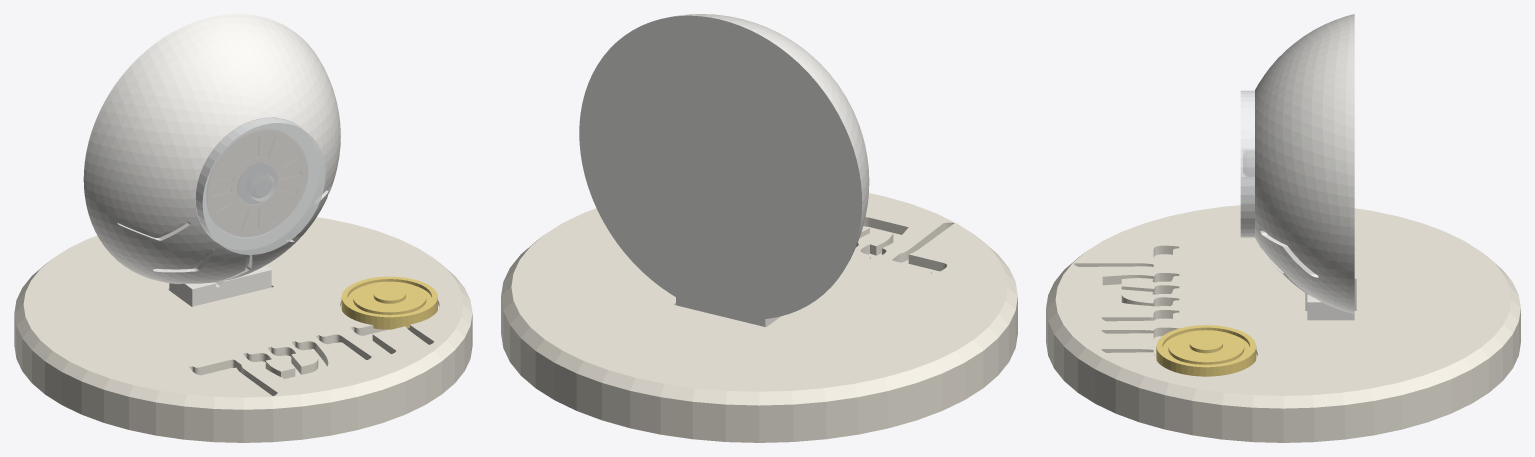
The model's file is darkness-eye.glb.
3 views of the same model, side by side, from view 1: azimuth 30°, elevation 25°; view 2: azimuth 150°, elevation 25°; view 3: azimuth 270°, elevation 25° (orthographic). The views are drawn at different scales.
Parts seen in each view (by area): view 1: stage, eye, film, dinar; view 2: stage, eye; view 3: stage, eye, dinar, film.
Part boxes in pixels (box(x1,y1,x2,y2)): stage: box(14, 217, 472, 442); eye: box(83, 14, 340, 306); film: box(195, 118, 325, 254); dinar: box(341, 276, 437, 329); stage: box(501, 193, 1017, 442); eye: box(579, 14, 869, 327); stage: box(1046, 205, 1520, 442); eye: box(1255, 14, 1354, 320); dinar: box(1156, 325, 1256, 376); film: box(1240, 90, 1254, 237).
Bounding box in the file's own units: 40 × 29.24 × 40.
